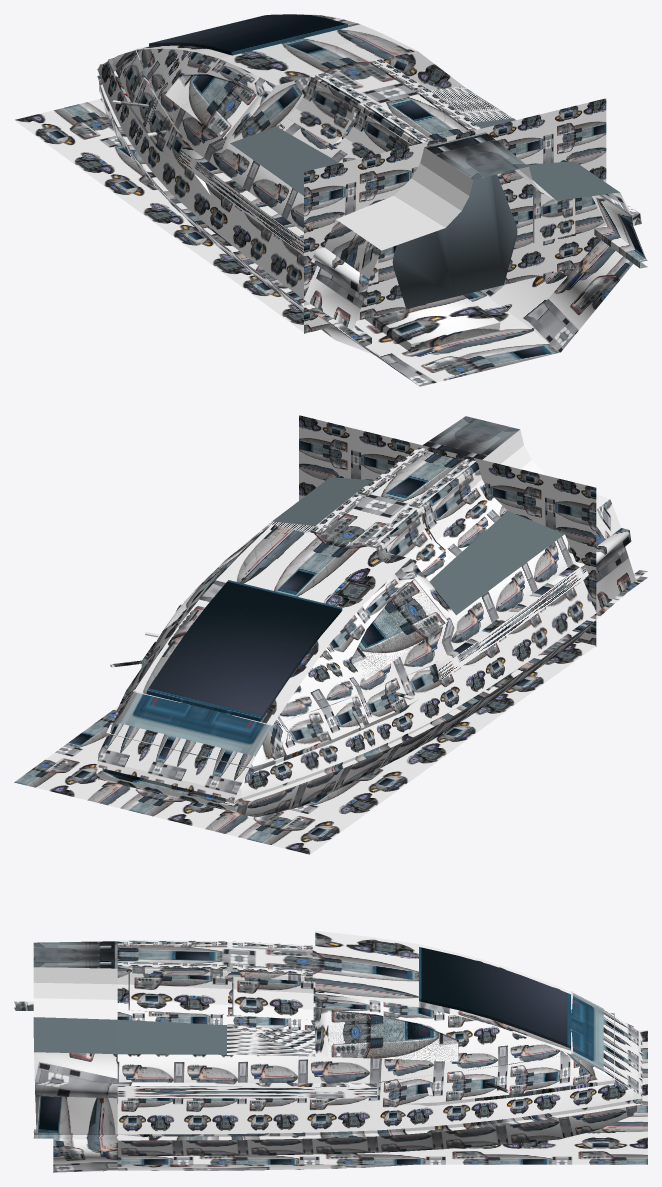
File: ChaffeeInterior.fbx
3 views of the same model, one above another, from view 1: azimuth 30°, elevation 25°; view 2: azimuth 150°, elevation 25°; view 3: azimuth 270°, elevation 25° (orthographic). The views are drawn at different scales.
Visible parts, largest first — view 1: Cube.001, Cube.017, Cube.008, Cube.019, Cube.018, Cube.009, Cube, Cube.005, Cube.023, Cube.022, Cube.006, Cube.002 (+2 smaller); view 2: Cube.001, Cube.023, Cube.019, Cube.018, Cube.008, Cube.017, Cube.022, Cube.005, Cube, Cube.006, Cube.002, Cube.020; view 3: Cube.001, Cube.017, Cube.018, Cube.023, Cube.019, Cube.005, Cube, Cube.022, Cube.002, Cube.006, Cube.020, Cube.010.
Part boxes in pixels (<box>): Cube.001: <box>97,48,619,339</box>; Cube.017: <box>97,75,647,386</box>; Cube.008: <box>304,98,606,333</box>; Cube.019: <box>14,98,303,332</box>; Cube.018: <box>138,14,469,140</box>; Cube.009: <box>392,174,517,308</box>; Cube: <box>336,132,555,250</box>; Cube.005: <box>286,81,412,159</box>; Cube.023: <box>149,14,347,55</box>; Cube.022: <box>165,74,257,138</box>; Cube.006: <box>315,59,480,142</box>; Cube.002: <box>177,149,303,255</box>; Cube.001: <box>96,450,621,817</box>; Cube.023: <box>116,580,342,756</box>; Cube.019: <box>14,641,595,854</box>; Cube.018: <box>134,451,464,724</box>; Cube.008: <box>299,415,596,646</box>; Cube.017: <box>96,528,647,806</box>; Cube.022: <box>163,540,447,680</box>; Cube.005: <box>382,472,494,571</box>; Cube: <box>423,416,609,660</box>; Cube.006: <box>310,447,475,546</box>; Cube.002: <box>437,564,589,679</box>; Cube.020: <box>106,602,474,771</box>; Cube.001: <box>33,944,642,1155</box>; Cube.017: <box>14,1001,642,1172</box>; Cube.018: <box>117,930,570,1054</box>; Cube.023: <box>419,947,603,1071</box>; Cube.019: <box>117,1030,647,1164</box>; Cube.005: <box>129,973,313,1020</box>; Cube: <box>33,941,117,1019</box>; Cube.022: <box>328,1010,458,1061</box>; Cube.002: <box>117,1086,376,1098</box>; Cube.006: <box>117,940,312,974</box>; Cube.020: <box>315,991,614,1107</box>; Cube.010: <box>152,1132,305,1136</box>.
Bounding box in the file's own units: 149 × 98.16 × 296.
